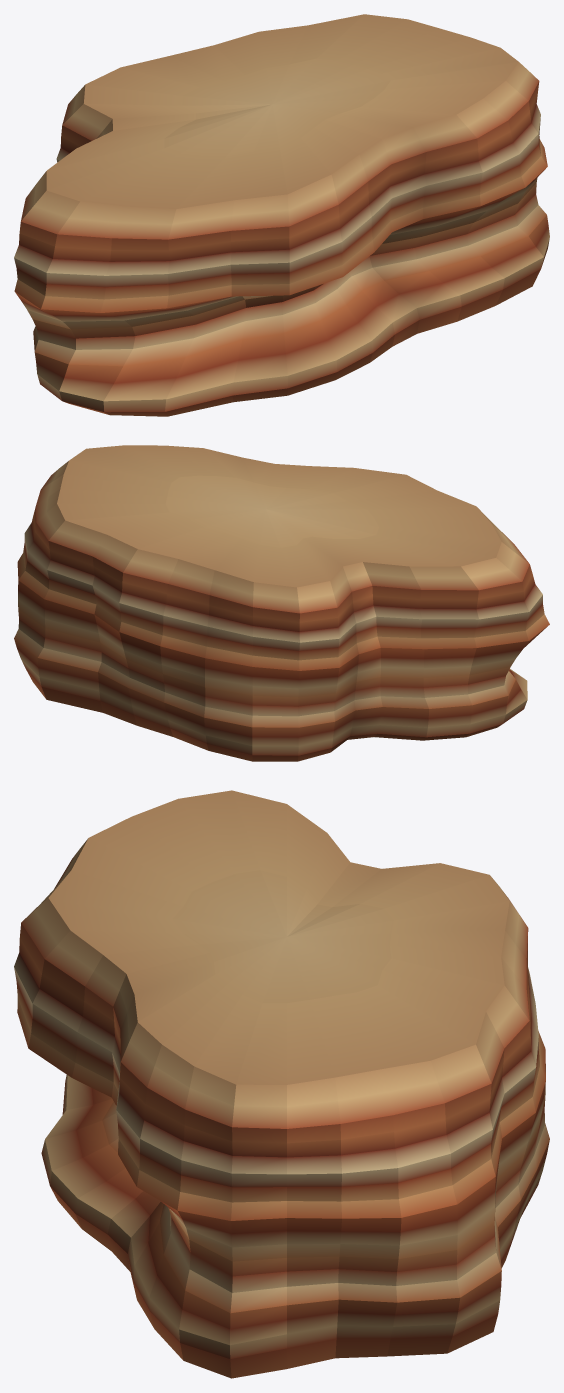
The model's file is boulder_c.glb.
3 renders of one model, top to bottom at view 1: azimuth 30°, elevation 25°; view 2: azimuth 150°, elevation 25°; view 3: azimuth 270°, elevation 25°, orthographic. The views are drawn at different scales.
Parts seen in each view (by area): view 1: boulder_c; view 2: boulder_c; view 3: boulder_c.
Part boxes in pixels (<box>): boulder_c: <box>14,14,549,416</box>; boulder_c: <box>14,445,549,761</box>; boulder_c: <box>14,790,549,1378</box>.
Size of the model in its own units: 4.11 by 1.55 by 2.64.
